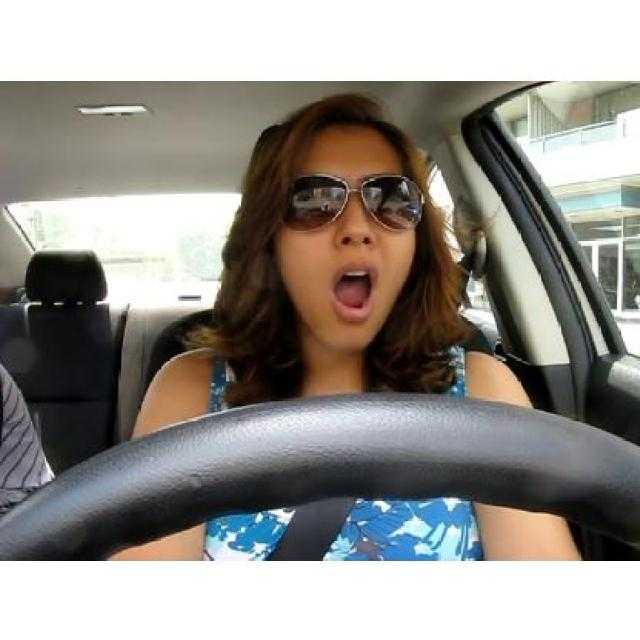inattentif: (258, 93, 422, 350)
